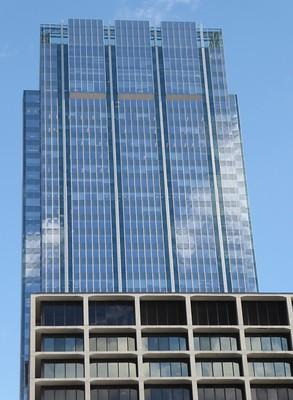building: (16, 14, 268, 400)
